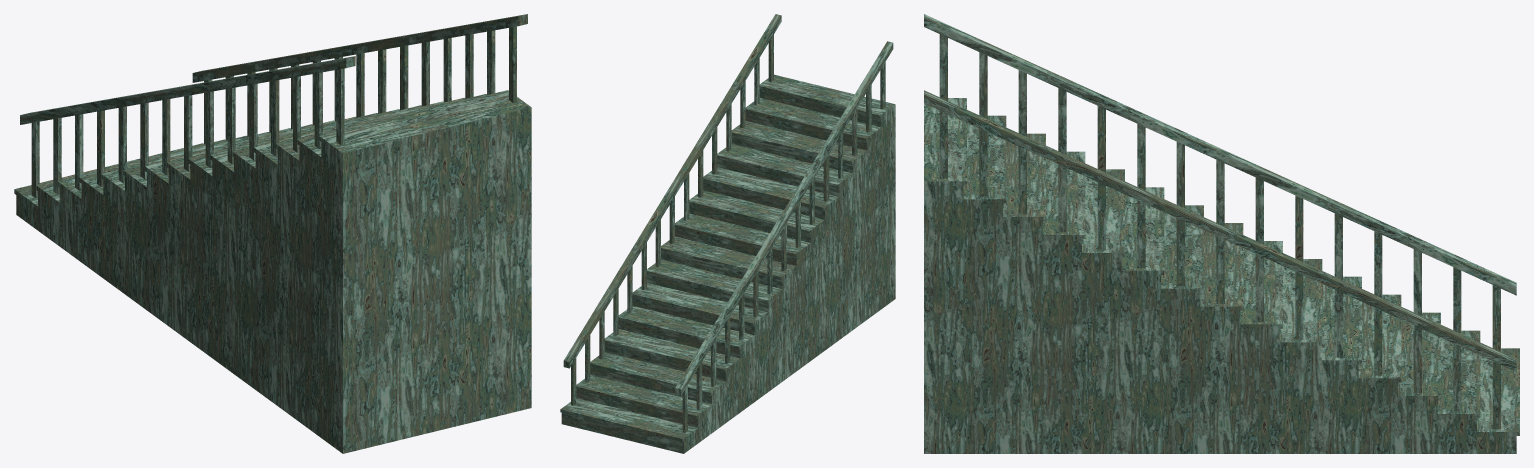
Rendered from Stairs_2X4.FBX.
3 renders of one model, left to right at view 1: azimuth 30°, elevation 25°; view 2: azimuth 150°, elevation 25°; view 3: azimuth 270°, elevation 25°, orthographic. The views are drawn at different scales.
Parts seen in each view (by area): view 1: Box005; view 2: Box005; view 3: Box005.
Boxes of the visible parts, bbox=[...] form: Box005: bbox=[14, 14, 531, 453]; Box005: bbox=[560, 14, 895, 453]; Box005: bbox=[924, 14, 1519, 453].
Bounding box in the file's own units: 200 × 400 × 603.
